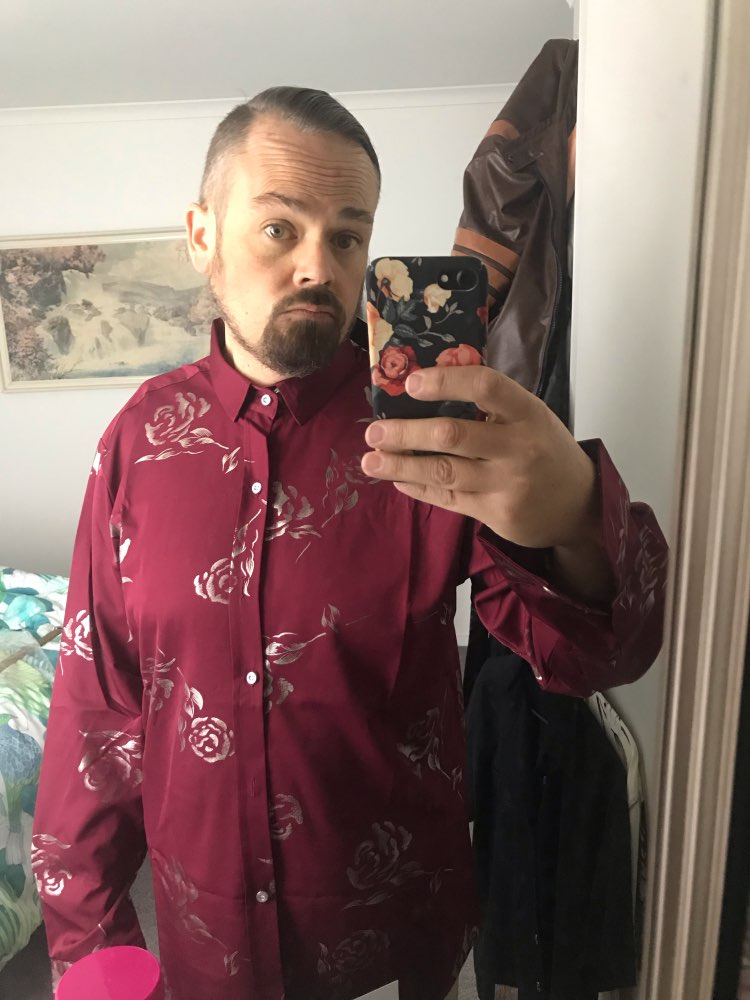shirts: (32, 328, 672, 986)
